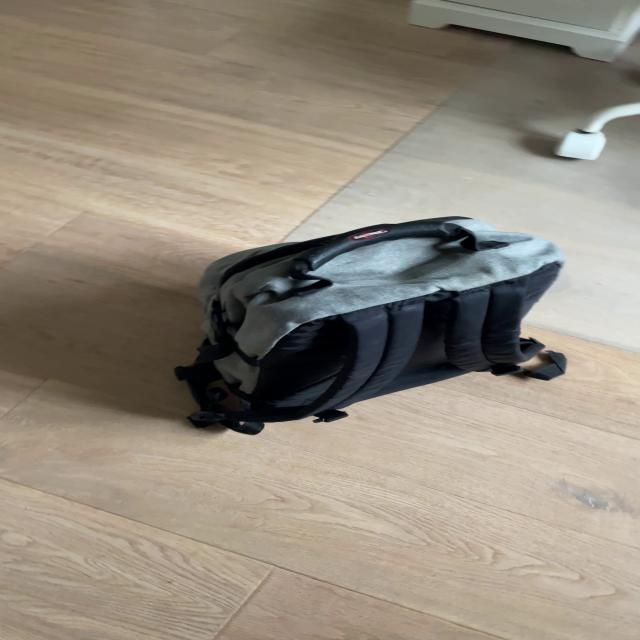backpack: (167, 207, 581, 431)
